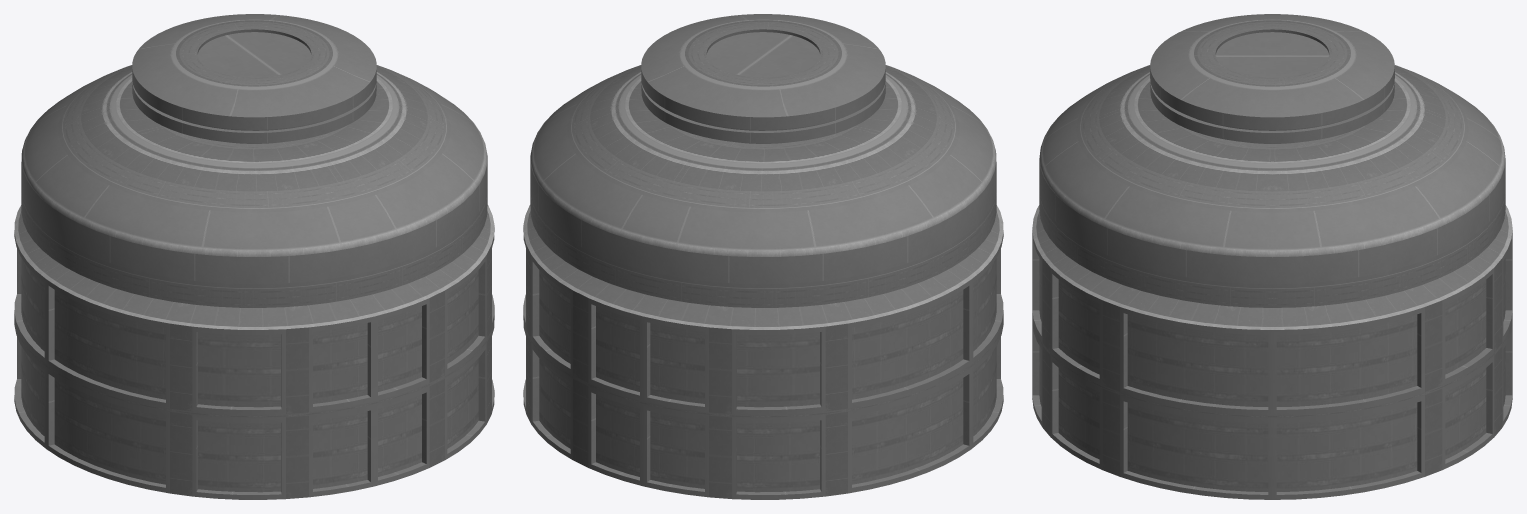
File: SM_module_building_02.glb
3 views of the same model, side by side, from view 1: azimuth 30°, elevation 25°; view 2: azimuth 150°, elevation 25°; view 3: azimuth 270°, elevation 25° (orthographic).
Visible parts, largest first — view 1: SM_module_building_02; view 2: SM_module_building_02; view 3: SM_module_building_02.
Boxes of the visible parts, x1,y1,x2,y2 form: SM_module_building_02: (14, 14, 494, 499); SM_module_building_02: (523, 14, 1003, 499); SM_module_building_02: (1032, 14, 1512, 499).
Size of the model in its own units: 24.88 by 19.72 by 24.88.
1 material, 1 textured.
